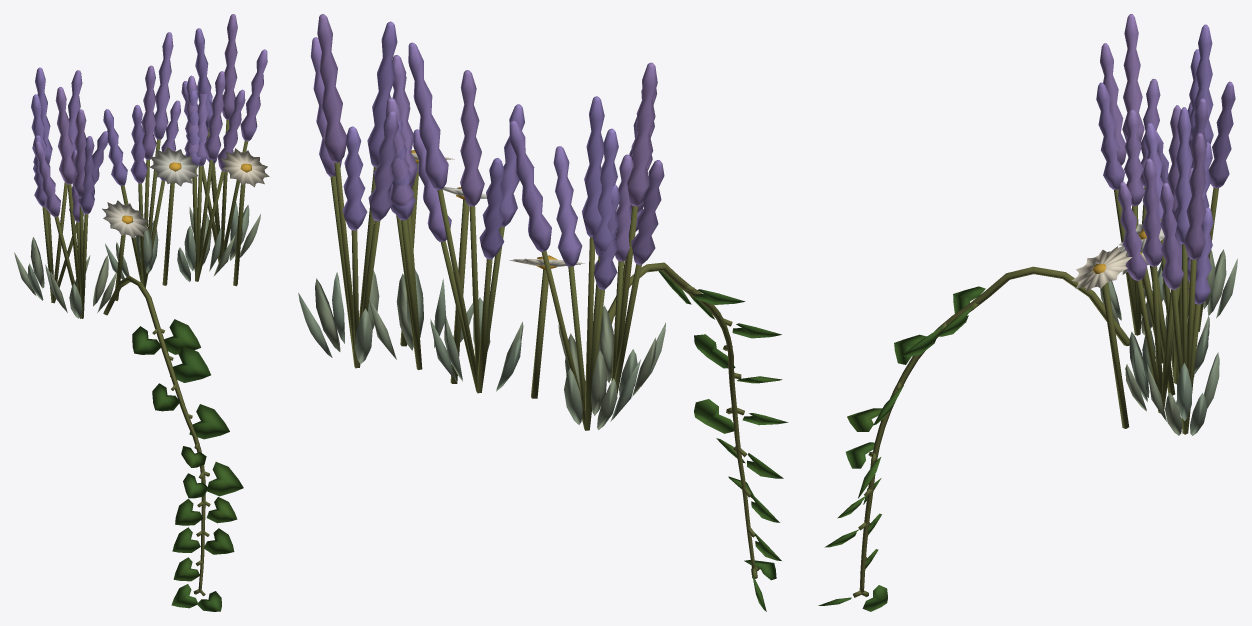
The model's file is box_mixed.glb.
3 views of the same model, side by side, from view 1: azimuth 30°, elevation 25°; view 2: azimuth 150°, elevation 25°; view 3: azimuth 270°, elevation 25° (orthographic). The views are drawn at different scales.
Visible parts, largest first — view 1: Sammel Pflanze, Sammel Putz; view 2: Sammel Pflanze, Sammel Putz; view 3: Sammel Pflanze, Sammel Putz.
Part boxes in pixels (bbox=[...]): Sammel Pflanze: bbox=[14, 14, 269, 611]; Sammel Putz: bbox=[42, 119, 248, 595]; Sammel Pflanze: bbox=[298, 14, 788, 611]; Sammel Putz: bbox=[330, 162, 759, 578]; Sammel Pflanze: bbox=[818, 14, 1237, 611]; Sammel Putz: bbox=[853, 187, 1218, 597].
Size of the model in its own units: 0.3081 by 0.5689 by 0.3698.
